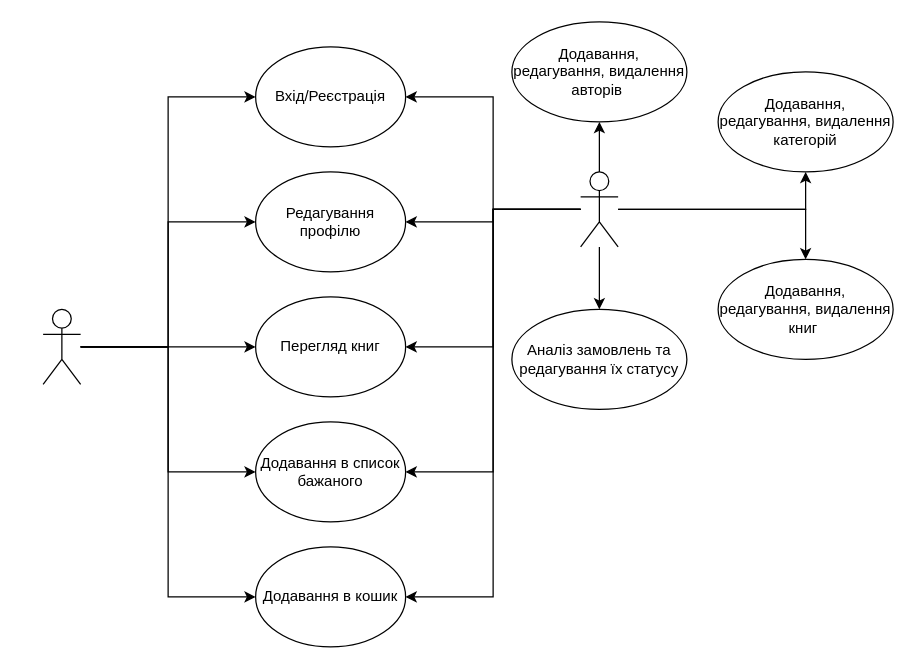
This 915x669 diagram has some shape labels left out. The box of each missing label's shape, as (x1, y1, x2, y2) in pixels:
Адміністратор: (579, 171, 618, 247)
Користувач: (42, 308, 81, 384)
